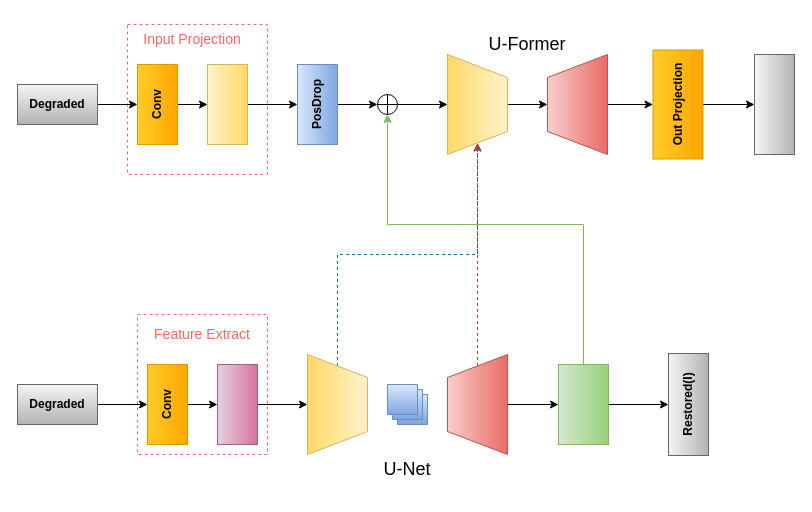
The diagram is 812 pixels wide and 512 high, and some of its shapes have lost their labels. Each missing label, with the centre of its shape:
CAB: point (237, 404)
LeakyReLU: point (227, 104)
Restored(II): point (774, 104)
SAM: point (583, 404)
